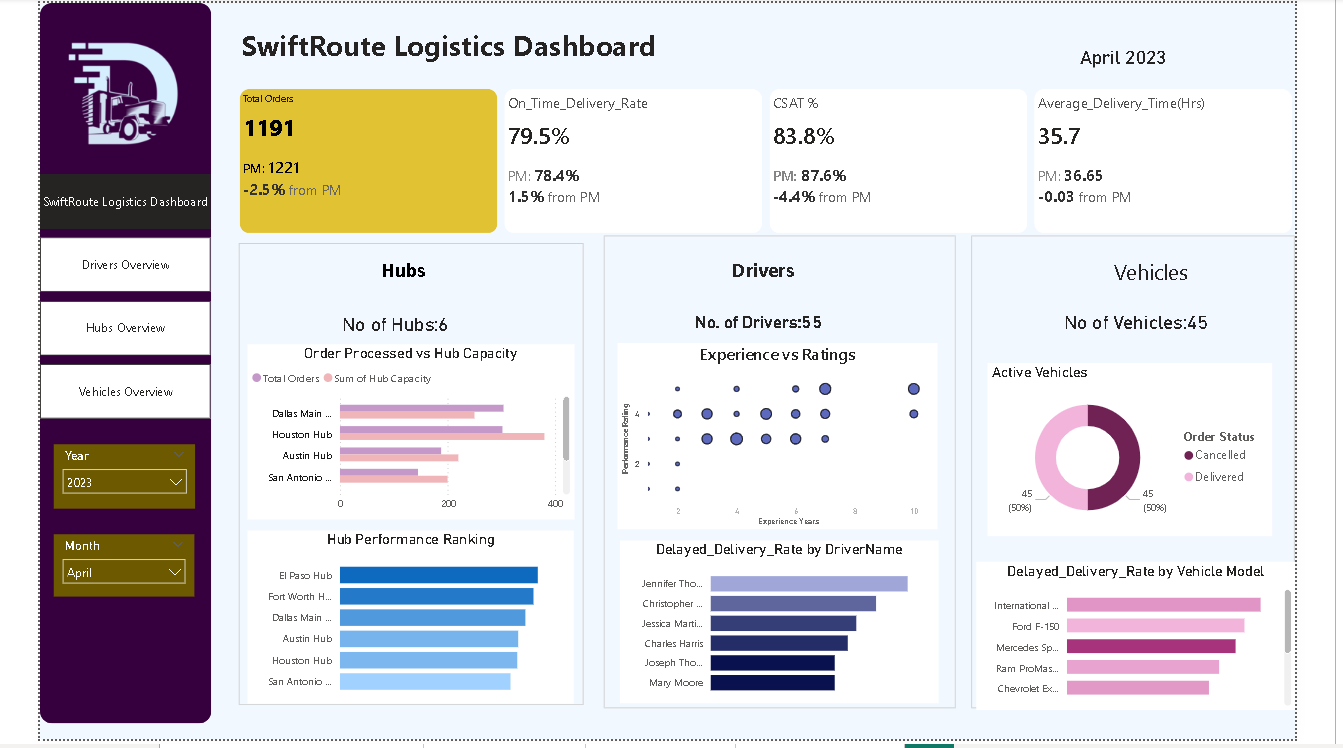

Layout of this report page (visuals, bound fields, positions):
{"tool":"powerbi","page":{"name":"SwiftRoute Logistics Dashboard","canvas":[1450,850],"ordinal":0},"visuals":[{"type":"shape","box":[0,0,197.8,831.9],"z":0},{"type":"textbox","box":[227.8,22.2,536.3,54.4],"z":1000},{"type":"slicer","fields":{"Values":["Date Table.Year"]},"box":[16.1,510.2,163.3,74.6],"z":2000},{"type":"slicer","fields":{"Values":["Date Table.Month"]},"box":[16.4,613.8,162.2,71.8],"z":3000},{"type":"cardVisual","fields":{"Data":["Orders.Total Orders","Orders.On_Time_Delivery_Rate","Orders.CSAT %","Orders.Average_Delivery_Time(Hrs)"]},"box":[228.8,96.4,1220.9,171.6],"z":4000},{"type":"shape","box":[229.9,277.1,398.2,533.7],"z":6000},{"type":"textbox","box":[313.8,289.3,214.1,44.1],"z":7000},{"type":"cardVisual","fields":{"Data":["Hubs.No_of_hubs"]},"box":[331.8,333.4,178.1,60.5],"z":8000},{"type":"clusteredBarChart","title":"Order Processed vs Hub Capacity","fields":{"Category":["Hubs.HubName"],"Y":["Orders.Total Orders","Sum(Hubs.Hub Capacity)"]},"box":[240.3,393.9,377.5,202.7],"z":9000},{"type":"barChart","title":"Hub Performance Ranking","fields":{"Category":["Hubs.HubName"],"Y":["Orders.On_Time_Delivery_Rate"]},"box":[239.9,608.9,377,199.6],"z":10000},{"type":"shape","box":[650.7,268.9,406.4,546],"z":11000},{"type":"cardVisual","fields":{"Data":["Drivers.Num_of_Drivers"]},"box":[704.4,333.4,251.7,60.5],"z":12000},{"type":"textbox","box":[704.4,289.3,261.5,44.1],"z":14000},{"type":"scatterChart","title":"Experience vs Ratings","fields":{"X":["Drivers.Experience Years"],"Y":["Drivers.Performance Rating"],"Size":["Sum(Drivers.Experience Years)1"]},"box":[667.1,392.1,369.5,215.5],"z":15000},{"type":"barChart","fields":{"Y":["Orders.Delayed_Delivery_Rate"],"Category":["Drivers.DriverName"]},"box":[670.1,621.1,367.7,188],"z":16000},{"type":"shape","box":[1075.6,268.9,373.6,546],"z":17000},{"type":"textbox","box":[1143.2,288.3,280.2,44.4],"z":18000},{"type":"cardVisual","fields":{"Data":["Orders.No of Vehicles"]},"box":[1143.2,332.7,246,66.5],"z":20000},{"type":"barChart","fields":{"Y":["Orders.Delayed_Delivery_Rate"],"Category":["Vehicles.Vehicle Model"]},"box":[1080.7,645.2,369,171.4],"z":21000},{"type":"donutChart","title":"Active Vehicles","fields":{"Category":["Orders.Order Status"],"Y":["CountNonNull(Vehicles.Vehicle ID)"]},"box":[1094.8,415.3,328.6,199.6],"z":22000},{"type":"image","box":[16.1,22.2,163.3,175.4],"z":23000},{"type":"cardVisual","fields":{"Data":["Orders.Year_Month_Title"]},"box":[1094.8,22.2,314.5,74.6],"z":24000},{"type":"pageNavigator","box":[0,197.1,197.1,283.3],"z":24001}]}

Visuals, with their boxes on the page's 1450x850 design canvas (x1, y1, x2, y2). These are canvas units, not pixel positions in the 1343x748 screenshot, which may show the page scaled, cropped or inside an application window:
shape: Rect(0, 0, 198, 832)
textbox: Rect(228, 22, 764, 77)
slicer - Date Table.Year: Rect(16, 510, 179, 585)
slicer - Date Table.Month: Rect(16, 614, 179, 686)
cardVisual - Orders.Total Orders x Orders.On_Time_Delivery_Rate: Rect(229, 96, 1450, 268)
shape: Rect(230, 277, 628, 811)
textbox: Rect(314, 289, 528, 333)
cardVisual - Hubs.No_of_hubs: Rect(332, 333, 510, 394)
"Order Processed vs Hub Capacity" clusteredBarChart: Rect(240, 394, 618, 597)
"Hub Performance Ranking" barChart: Rect(240, 609, 617, 808)
shape: Rect(651, 269, 1057, 815)
cardVisual - Drivers.Num_of_Drivers: Rect(704, 333, 956, 394)
textbox: Rect(704, 289, 966, 333)
"Experience vs Ratings" scatterChart: Rect(667, 392, 1037, 608)
barChart - Orders.Delayed_Delivery_Rate x Drivers.DriverName: Rect(670, 621, 1038, 809)
shape: Rect(1076, 269, 1449, 815)
textbox: Rect(1143, 288, 1423, 333)
cardVisual - Orders.No of Vehicles: Rect(1143, 333, 1389, 399)
barChart - Orders.Delayed_Delivery_Rate x Vehicles.Vehicle Model: Rect(1081, 645, 1450, 817)
"Active Vehicles" donutChart: Rect(1095, 415, 1423, 615)
image: Rect(16, 22, 179, 198)
cardVisual - Orders.Year_Month_Title: Rect(1095, 22, 1409, 97)
pageNavigator: Rect(0, 197, 197, 480)
